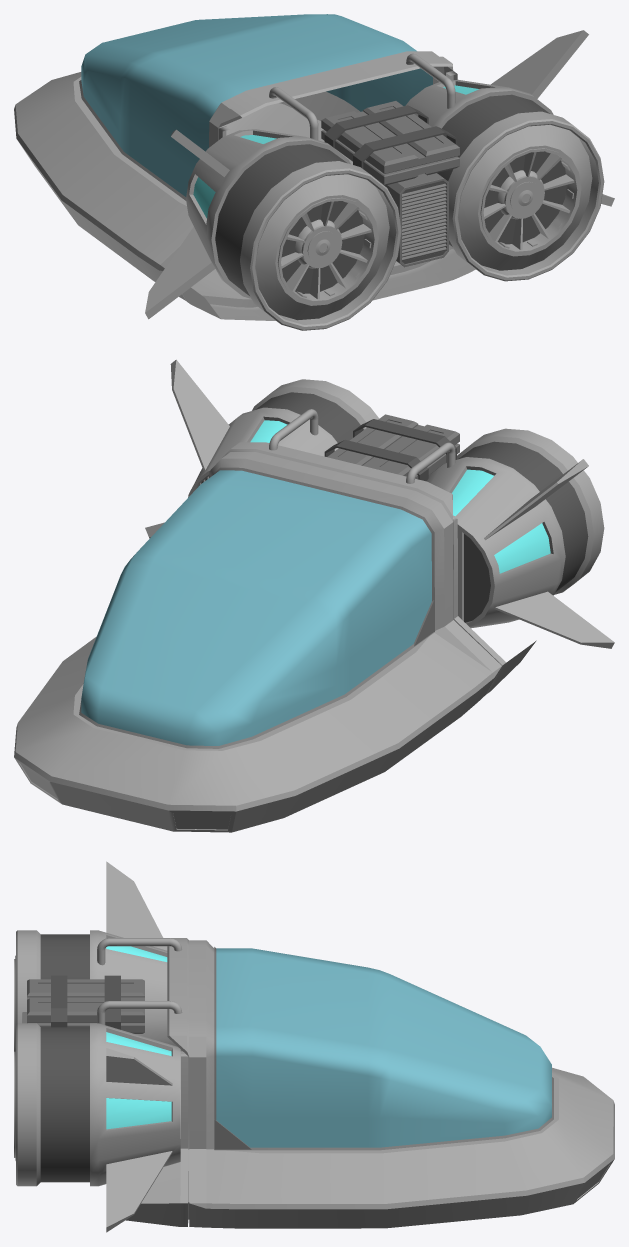
Rendered from Submersible.fbx.
3 renders of one model, top to bottom at view 1: azimuth 30°, elevation 25°; view 2: azimuth 150°, elevation 25°; view 3: azimuth 270°, elevation 25°, orthographic. The views are drawn at different scales.
Visible parts, largest first — view 1: polySurface117, polySurface118, pCylinder58, pCylinder56, polySurface115, polySurface114, pPlane58, polySurface121, polySurface120, polySurface123, polySurface124, polySurface119; view 2: polySurface118, polySurface117, pCylinder58, pCylinder56, pPlane58, polySurface119, polySurface123, polySurface124; view 3: polySurface118, polySurface117, pCylinder56, pCylinder58, pPlane58, polySurface119, polySurface124, polySurface123.
Part boxes in pixels (x1=…): polySurface117: x1=14, y1=51, x2=475, y2=320; polySurface118: x1=81, y1=14, x2=432, y2=196; pCylinder58: x1=145, y1=129, x2=401, y2=330; pCylinder56: x1=405, y1=30, x2=614, y2=281; polySurface115: x1=255, y1=174, x2=389, y2=320; polySurface114: x1=458, y1=124, x2=592, y2=270; pPlane58: x1=321, y1=101, x2=459, y2=185; polySurface121: x1=402, y1=183, x2=446, y2=260; polySurface120: x1=374, y1=173, x2=448, y2=267; polySurface123: x1=406, y1=53, x2=455, y2=108; polySurface124: x1=269, y1=87, x2=318, y2=140; polySurface119: x1=79, y1=80, x2=220, y2=200; polySurface118: x1=81, y1=470, x2=434, y2=745; polySurface117: x1=14, y1=442, x2=536, y2=832; pCylinder58: x1=426, y1=428, x2=614, y2=648; pCylinder56: x1=145, y1=359, x2=379, y2=538; pPlane58: x1=324, y1=414, x2=459, y2=481; polySurface119: x1=79, y1=467, x2=434, y2=748; polySurface123: x1=269, y1=409, x2=318, y2=450; polySurface124: x1=406, y1=442, x2=455, y2=483; polySurface118: x1=214, y1=948, x2=551, y2=1149; polySurface117: x1=126, y1=938, x2=614, y2=1228; pCylinder56: x1=16, y1=1023, x2=180, y2=1232; pCylinder58: x1=16, y1=861, x2=177, y2=1046; pPlane58: x1=27, y1=975, x2=144, y2=1033; polySurface119: x1=214, y1=947, x2=553, y2=1150; polySurface124: x1=97, y1=938, x2=181, y2=965; polySurface123: x1=97, y1=1001, x2=182, y2=1024.
Bounding box in the file's own units: 6.2 × 3.03 × 7.31.
